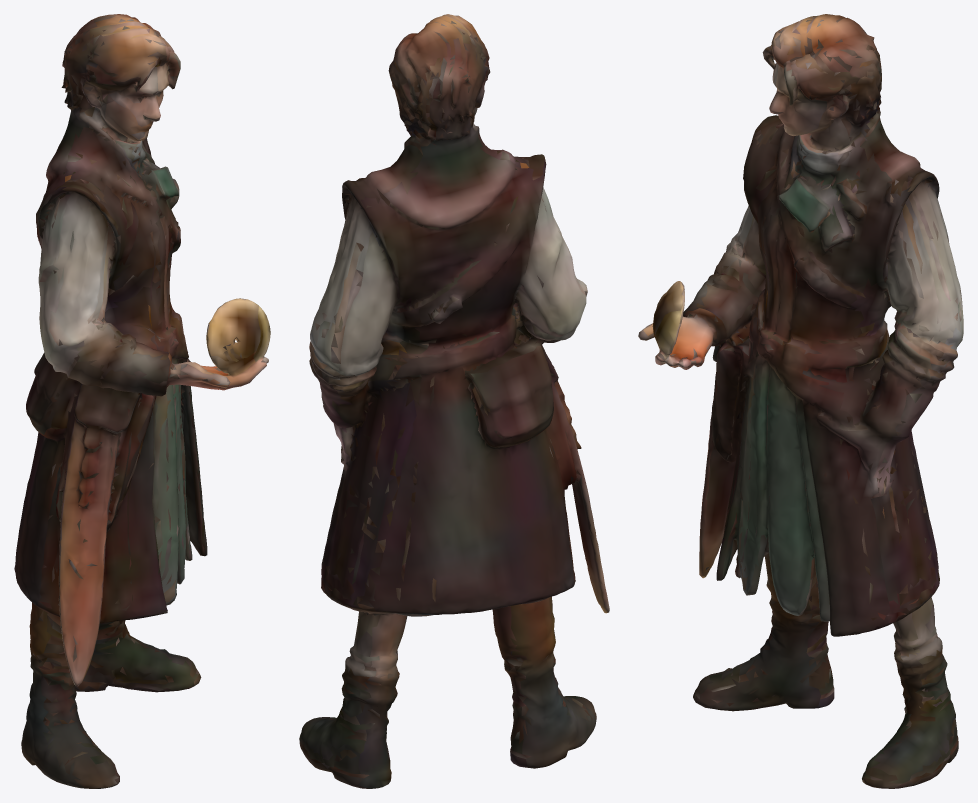
File: Axiom_final.glb
3 views of the same model, side by side, from view 1: azimuth 30°, elevation 25°; view 2: azimuth 150°, elevation 25°; view 3: azimuth 270°, elevation 25° (orthographic).
Visible parts, largest first — view 1: Mesh1.0; view 2: Mesh1.0; view 3: Mesh1.0.
Boxes of the visible parts, box(x1,y1,x2,y2) form: Mesh1.0: box(14, 14, 270, 788); Mesh1.0: box(299, 14, 609, 788); Mesh1.0: box(638, 14, 963, 788).
Bounding box in the file's own units: 0.571 × 1.8 × 0.7356.
1 material, 1 textured.
